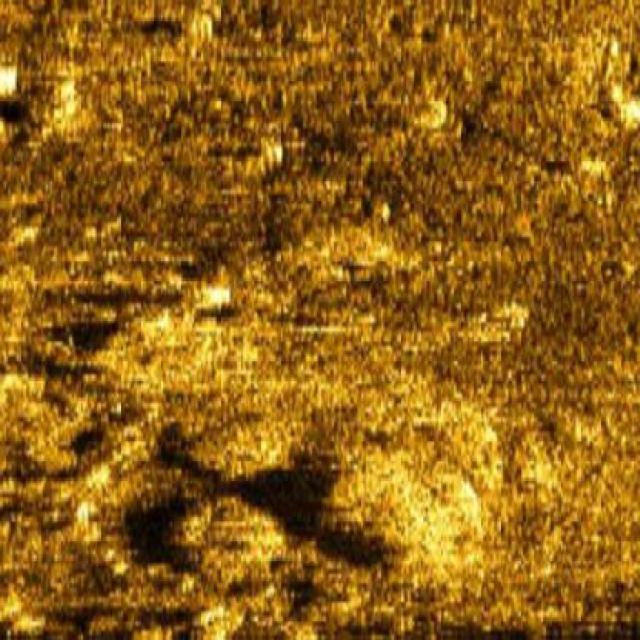bedrock group: (0, 228, 534, 640)
